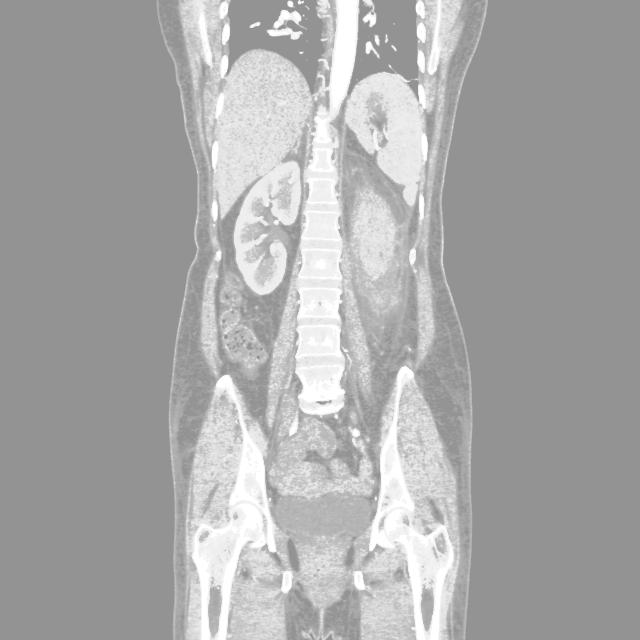TUMOR: (228, 181, 511, 380)
